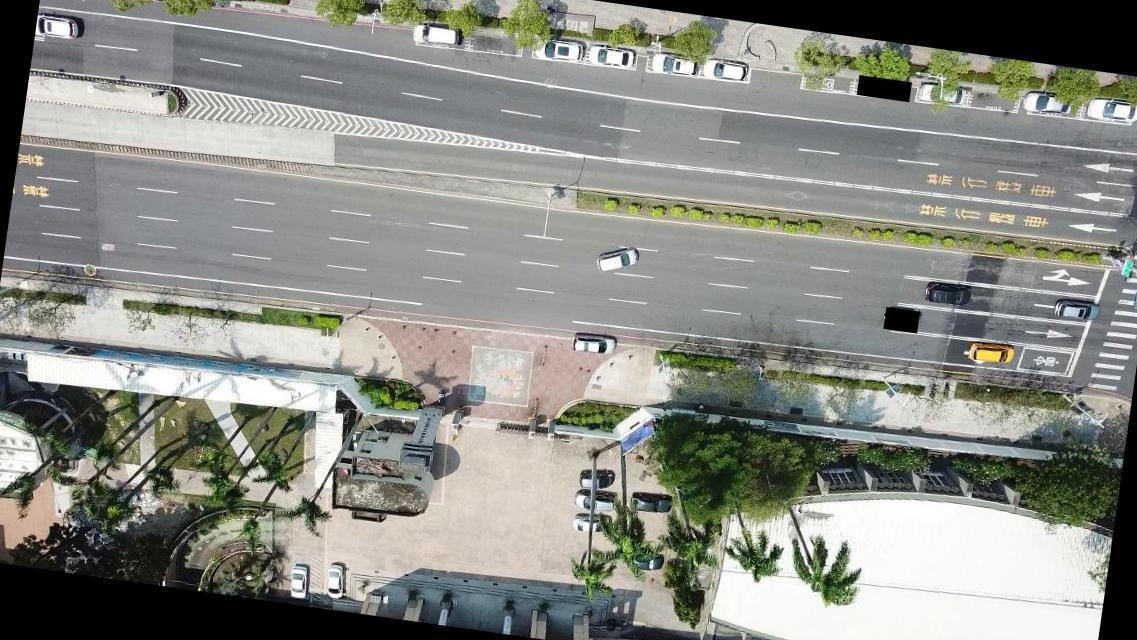vehicle: (594, 241, 640, 276), (922, 282, 971, 310), (34, 13, 80, 42), (1085, 97, 1136, 123), (650, 52, 700, 78), (411, 20, 460, 46), (532, 38, 582, 63), (588, 44, 635, 70), (570, 330, 617, 354), (1054, 298, 1100, 322), (702, 58, 748, 82), (1022, 94, 1072, 115), (968, 341, 1013, 364), (917, 82, 962, 105), (630, 492, 673, 515), (626, 550, 665, 574), (578, 467, 615, 492), (574, 491, 616, 512), (325, 562, 348, 599), (572, 514, 610, 536), (289, 565, 310, 599)
